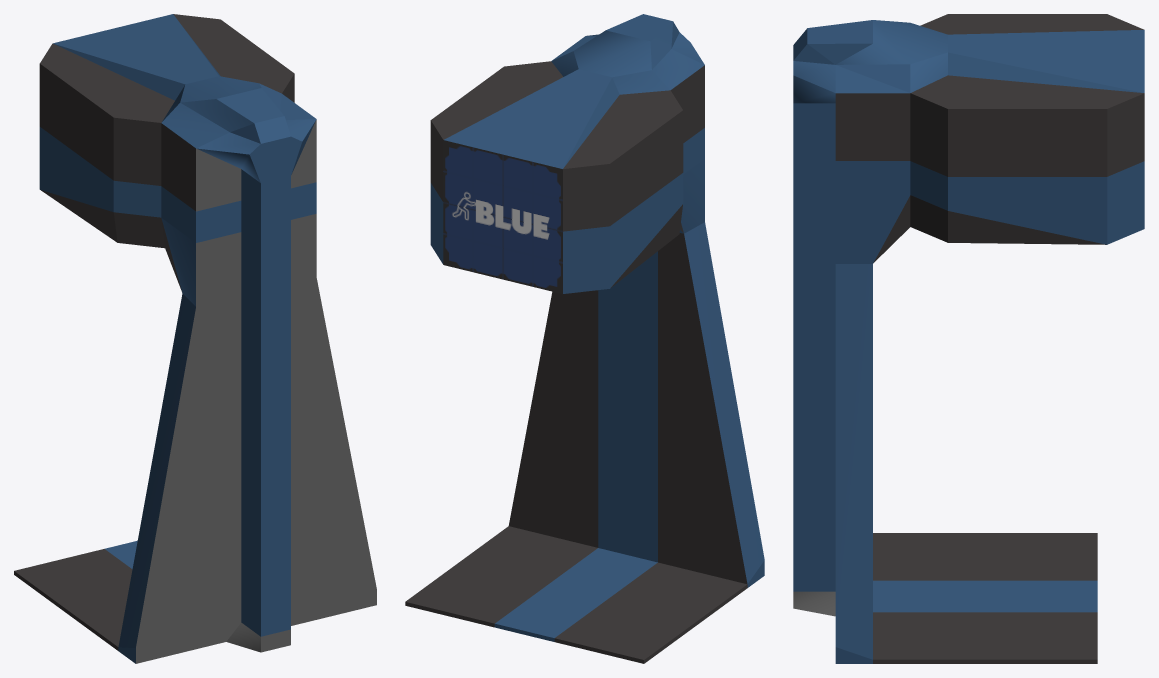
File: SpawnerBlue.obj
3 views of the same model, side by side, from view 1: azimuth 30°, elevation 25°; view 2: azimuth 150°, elevation 25°; view 3: azimuth 270°, elevation 25° (orthographic). The views are drawn at different scales.
Visible parts, largest first — view 1: SpawnerBlue; view 2: SpawnerBlue; view 3: SpawnerBlue.
Boxes of the visible parts, left/top/right/bottom form: SpawnerBlue: left=14, top=14, right=376, bottom=663; SpawnerBlue: left=405, top=14, right=764, bottom=663; SpawnerBlue: left=793, top=14, right=1144, bottom=663.
Size of the model in its own units: 2 by 4.19 by 2.34.
